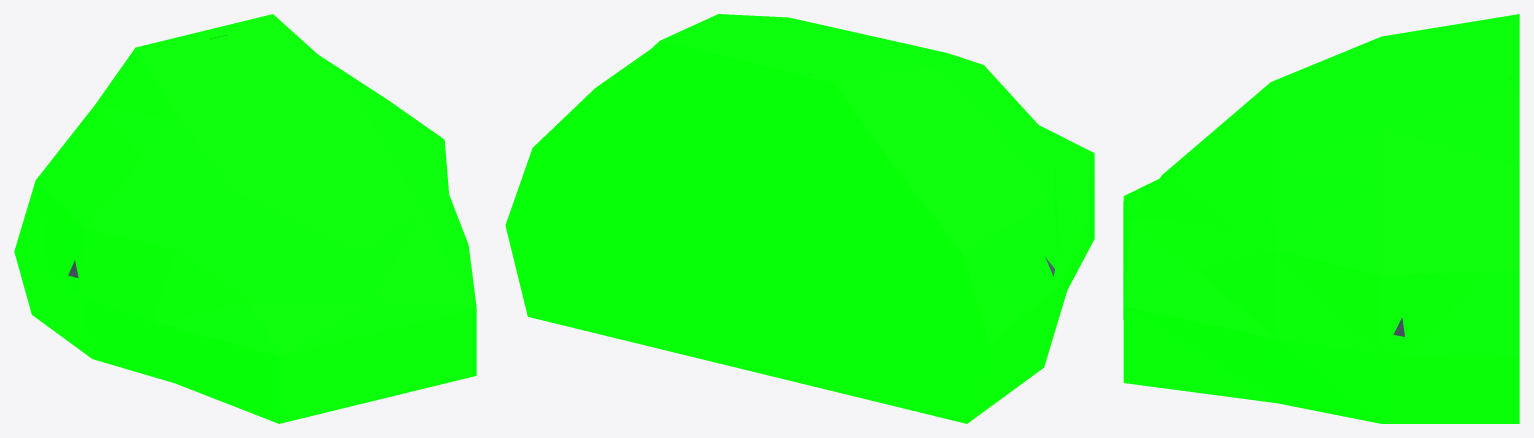
File: A330_INTERIOR_LOD03.gltf
The picture shows the model from 3 angles, left to right: view 1: azimuth 30°, elevation 25°; view 2: azimuth 150°, elevation 25°; view 3: azimuth 270°, elevation 25°; orthographic projection. The views are drawn at different scales.
Visible parts, largest first — view 1: Occluder; view 2: Occluder; view 3: Occluder.
Part boxes in pixels (x1,y1,x2,y2): Occluder: [14, 14, 476, 423]; Occluder: [505, 14, 1094, 423]; Occluder: [1123, 14, 1519, 423].
Size of the model in its own units: 3.72 by 2.27 by 2.95.
